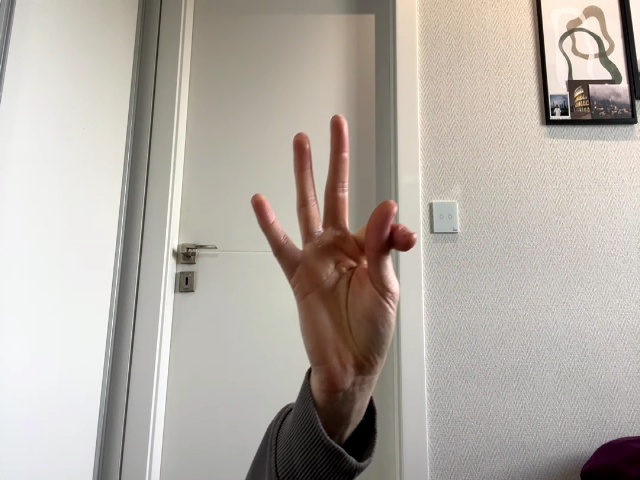T: (251, 115, 418, 390)
